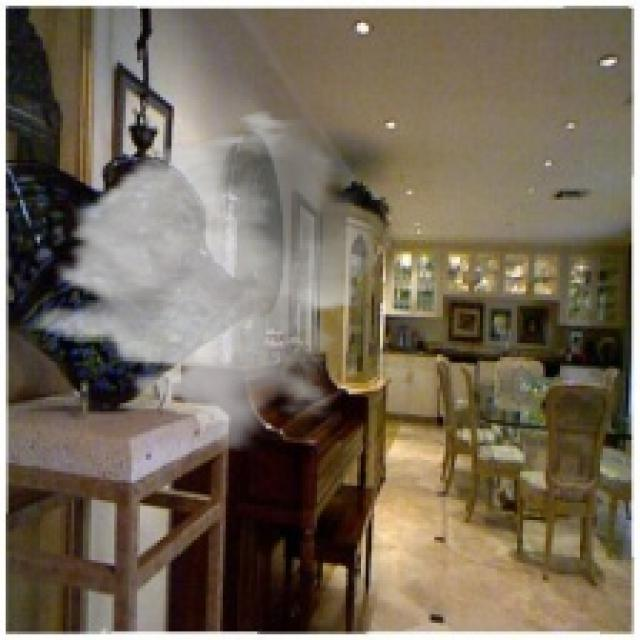smoke: (29, 106, 400, 451)
